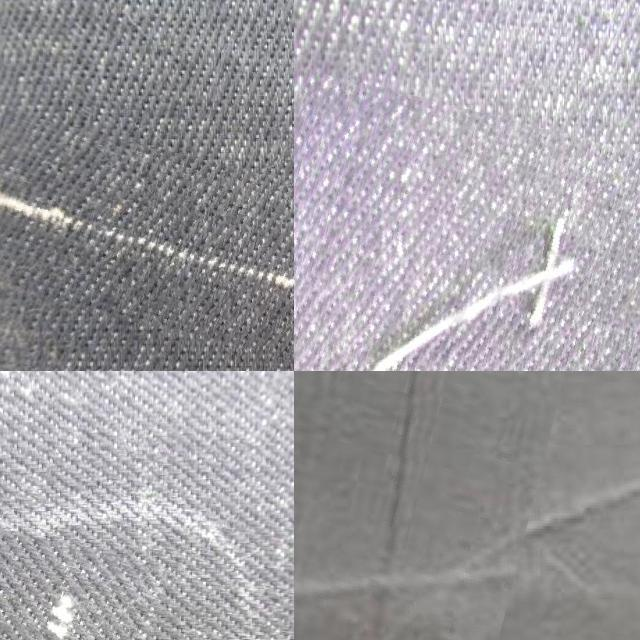Thread_other: (294, 90, 640, 371), (294, 371, 563, 640), (0, 136, 294, 363), (0, 538, 161, 640)
